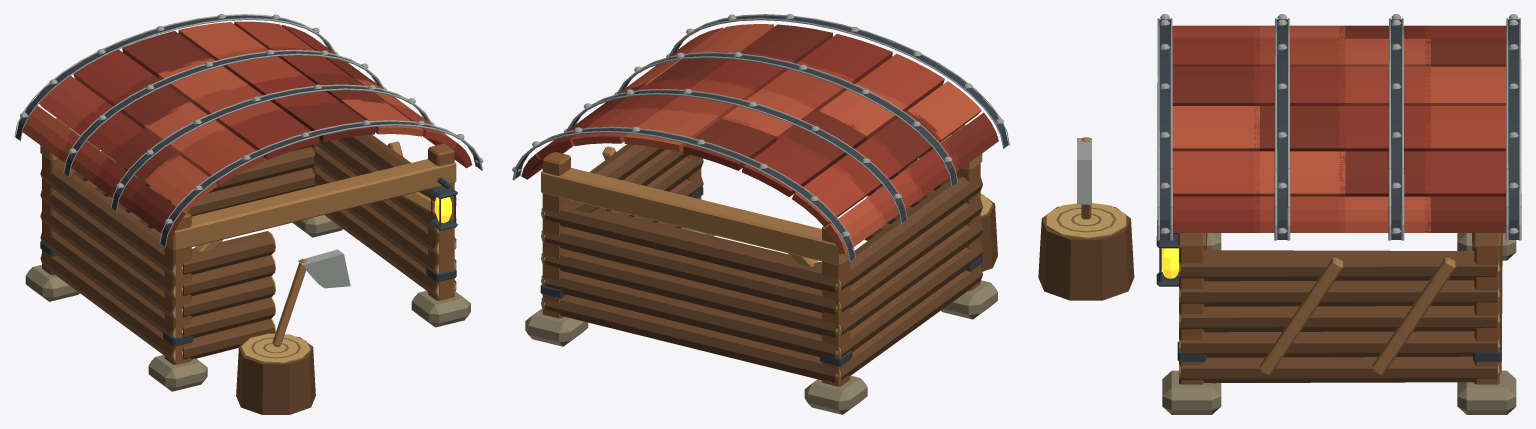
The model's file is lumberjack.glb.
3 views of the same model, side by side, from view 1: azimuth 30°, elevation 25°; view 2: azimuth 150°, elevation 25°; view 3: azimuth 270°, elevation 25° (orthographic). The views are drawn at different scales.
Parts seen in each view (by area): view 1: lumberjack.001; view 2: lumberjack.001; view 3: lumberjack.001.
Part boxes in pixels (box(x1,y1,x2,y2)): lumberjack.001: box(14, 14, 483, 414); lumberjack.001: box(512, 14, 1009, 414); lumberjack.001: box(1038, 14, 1521, 414).
Bounding box in the file's own units: 4.76 × 3.25 × 5.16.
